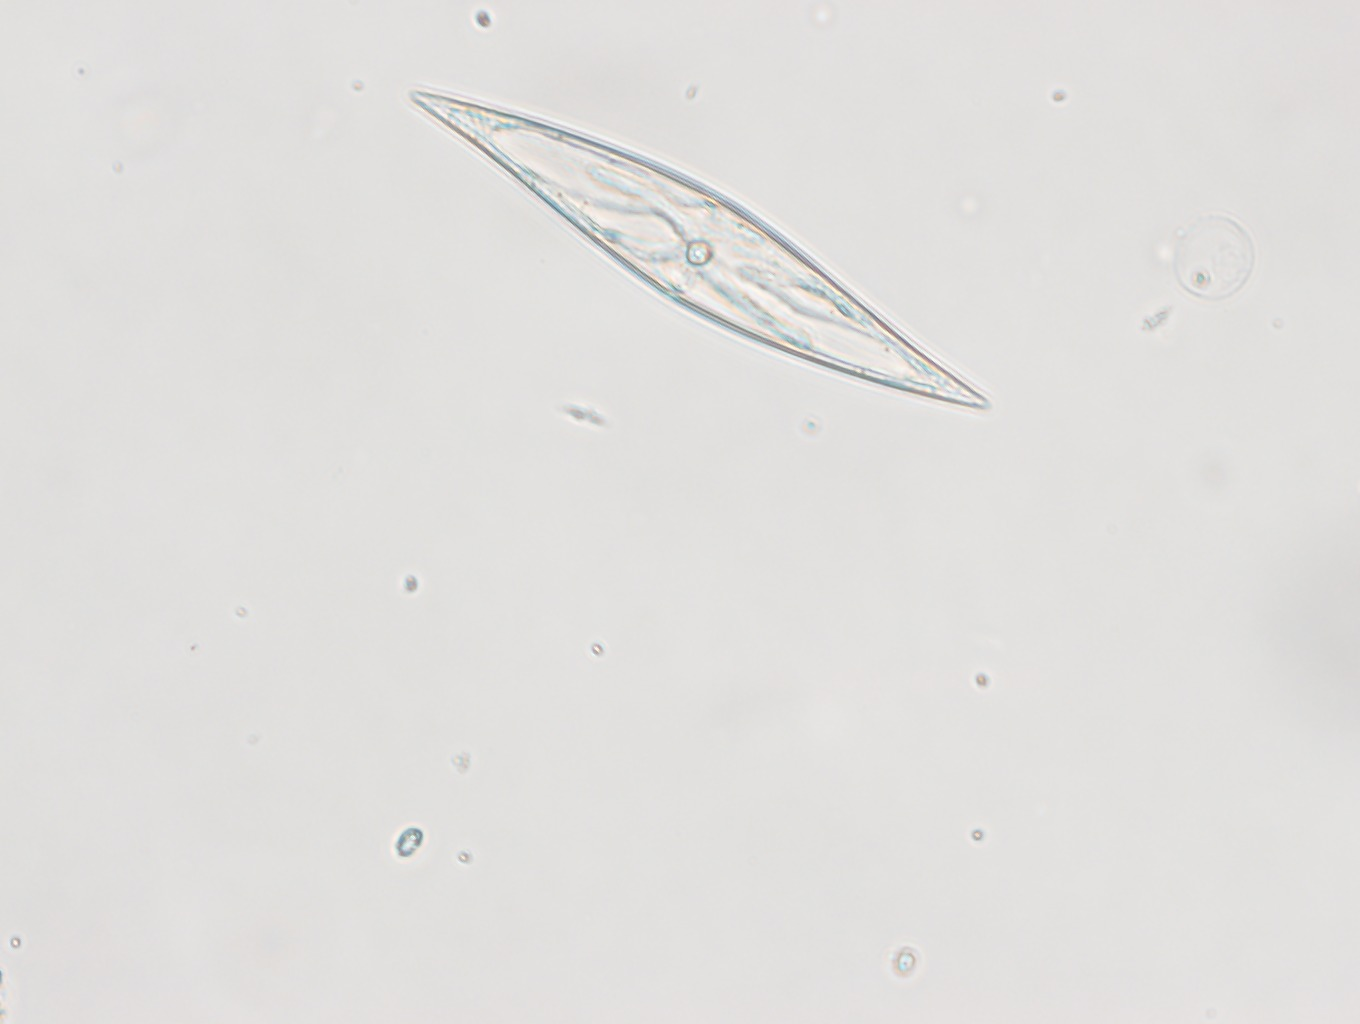pleurosigma pelagicum: (409, 86, 994, 414)
